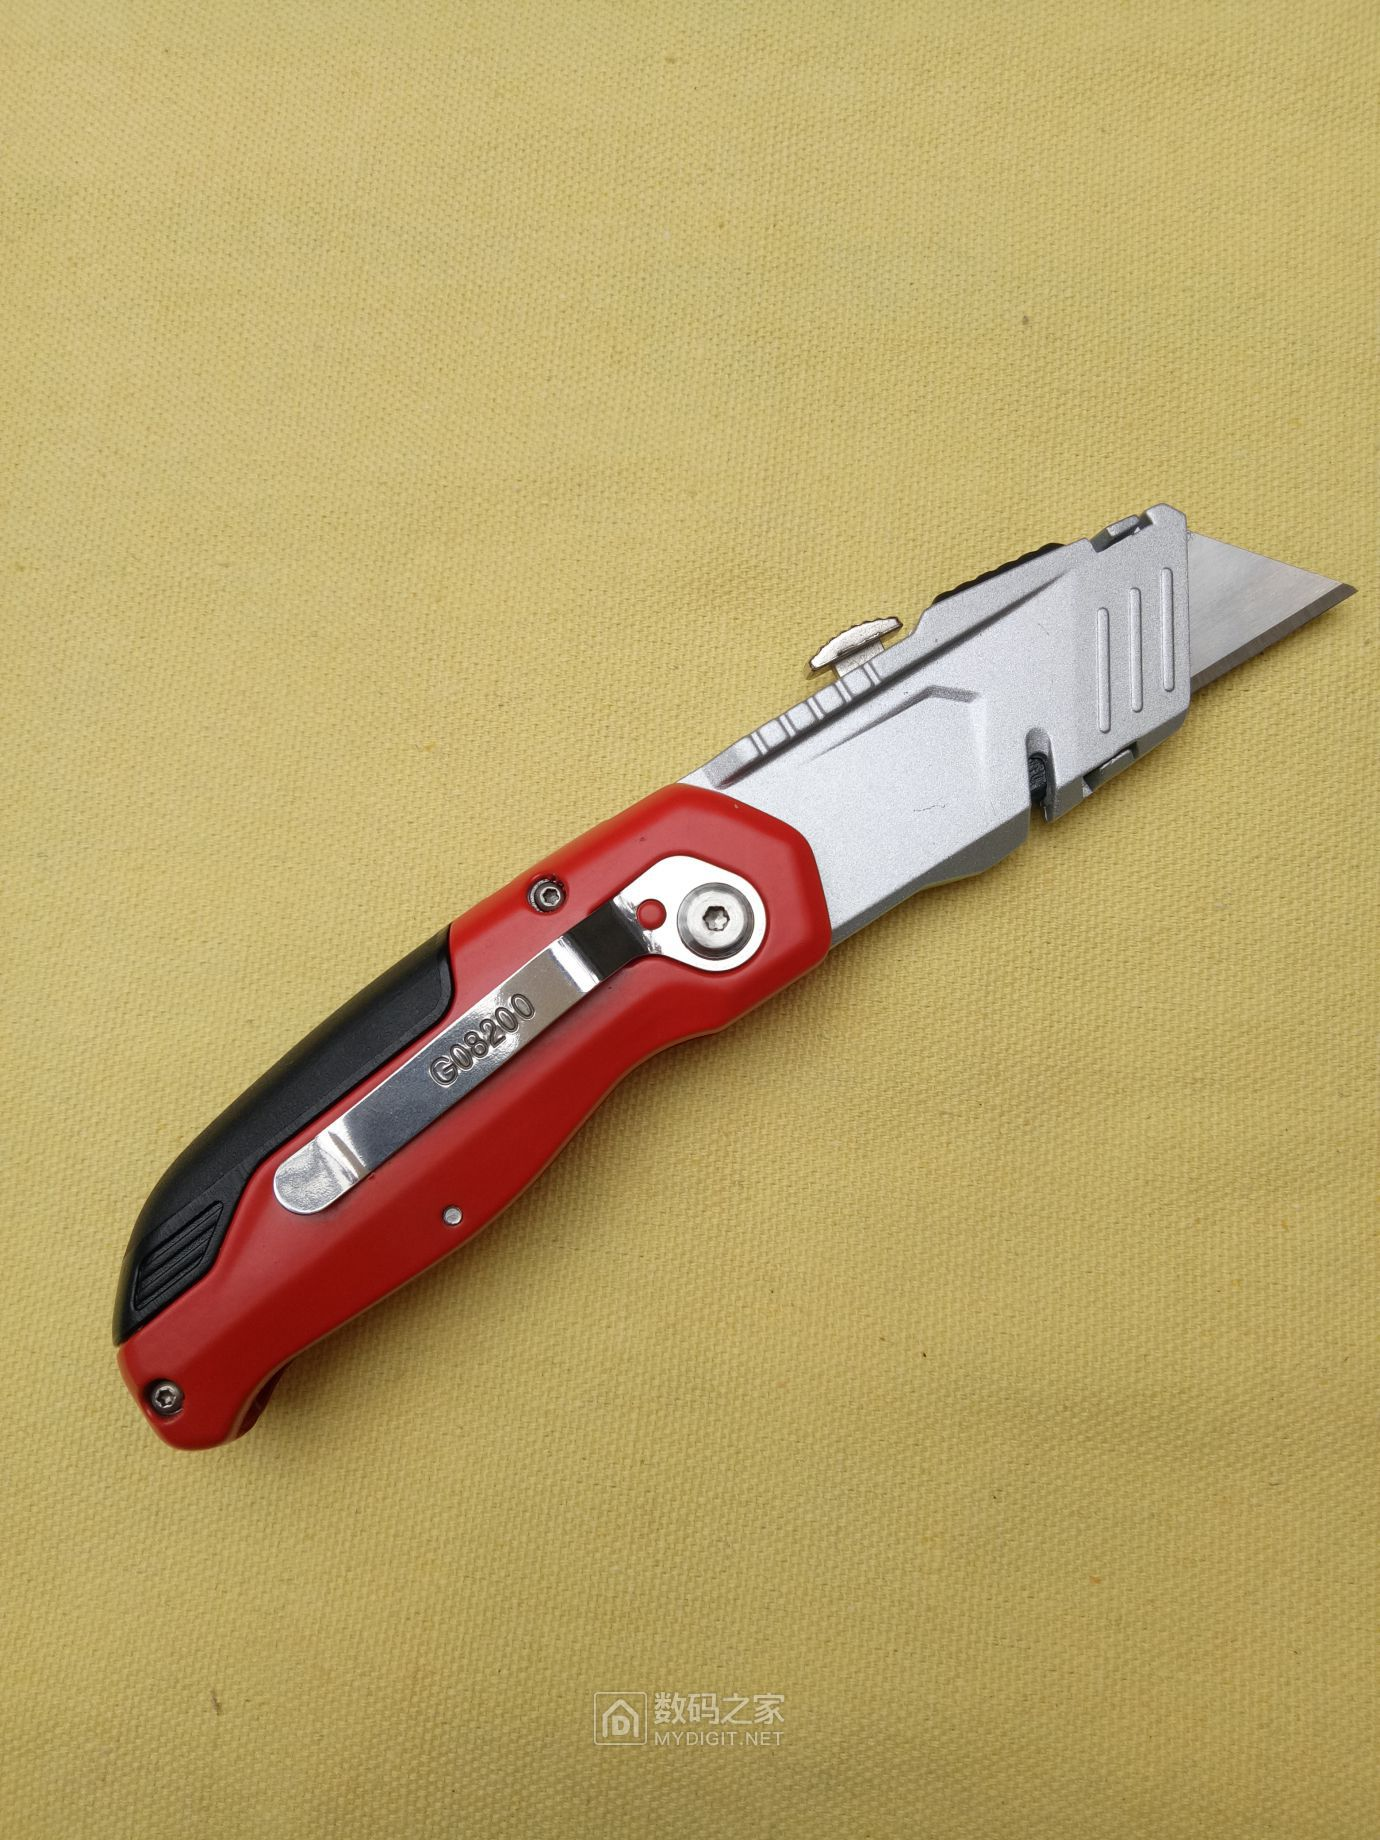cutter: (112, 498, 1367, 1458)
